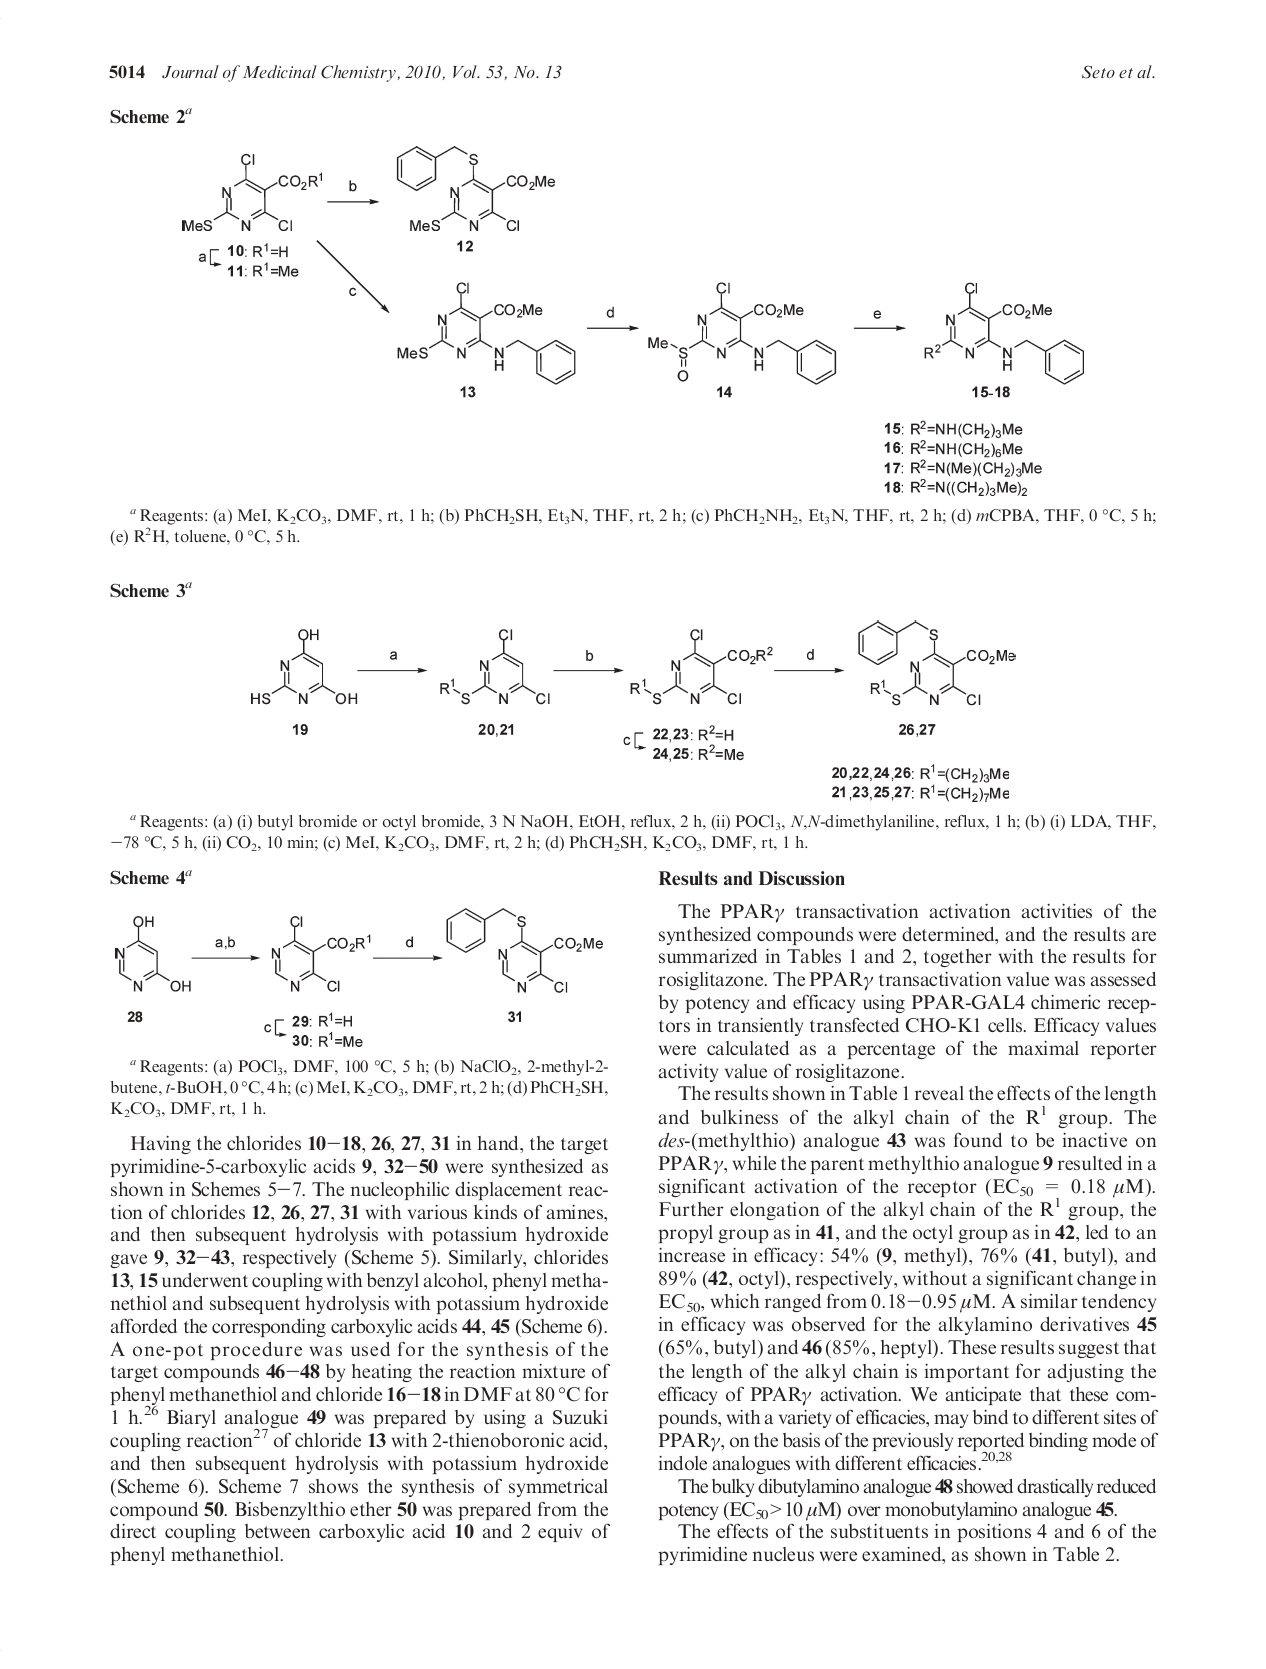exist_molecular: (645, 281, 839, 386), (394, 275, 577, 384), (920, 278, 1086, 386), (392, 142, 559, 237), (855, 614, 1019, 707), (444, 904, 606, 997), (180, 152, 324, 239), (626, 625, 775, 707), (436, 626, 552, 707), (249, 626, 359, 707), (270, 910, 372, 996), (110, 912, 194, 996)
